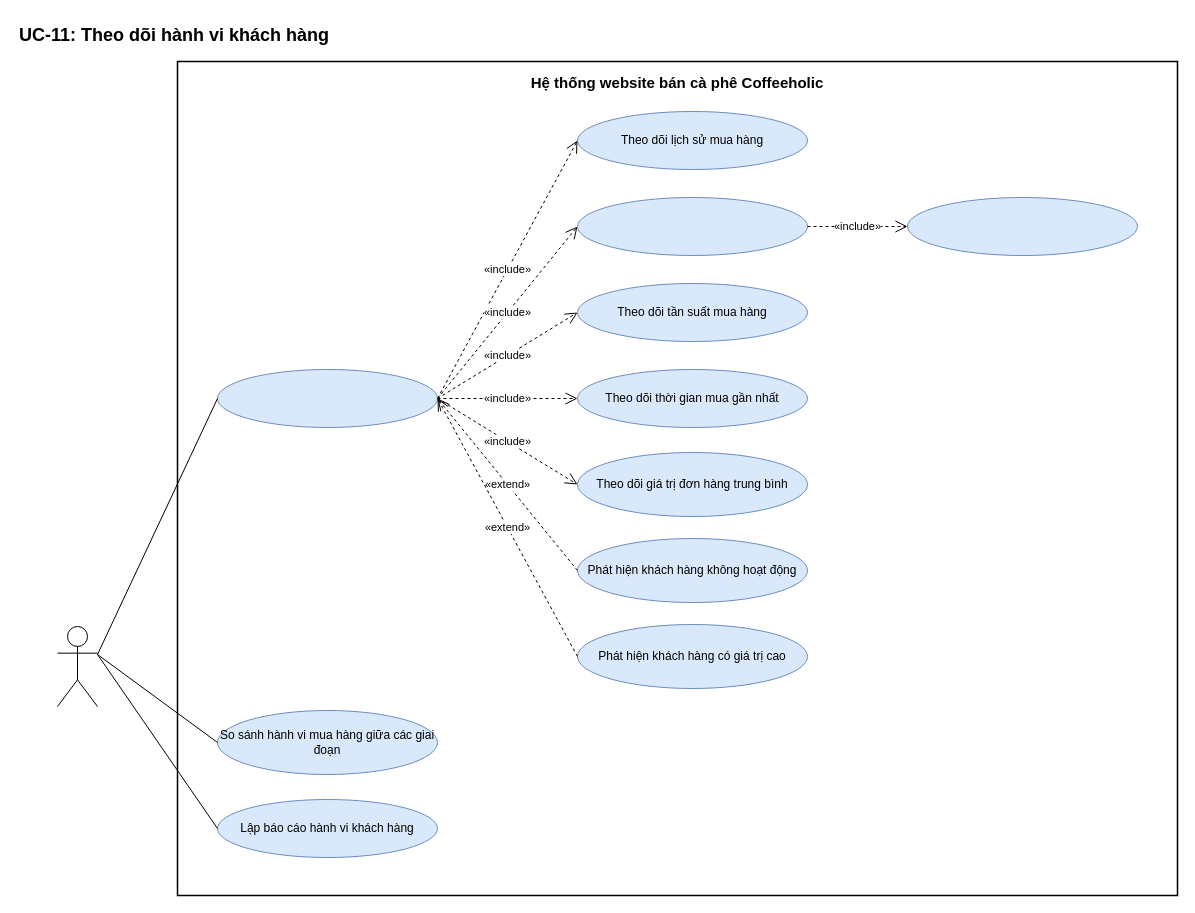
Some shapes in this 1195 by 913 pixel diagram are drawn without their labels. The centre of each missing label's shape, as x and y in pixels:
Quản lý: [77,666]
Theo dõi hành vi mua hàng: [327,398]
Theo dõi sở thích cà phê: [692,226]
Xác định danh mục cà phê yêu thích: [1022,226]
